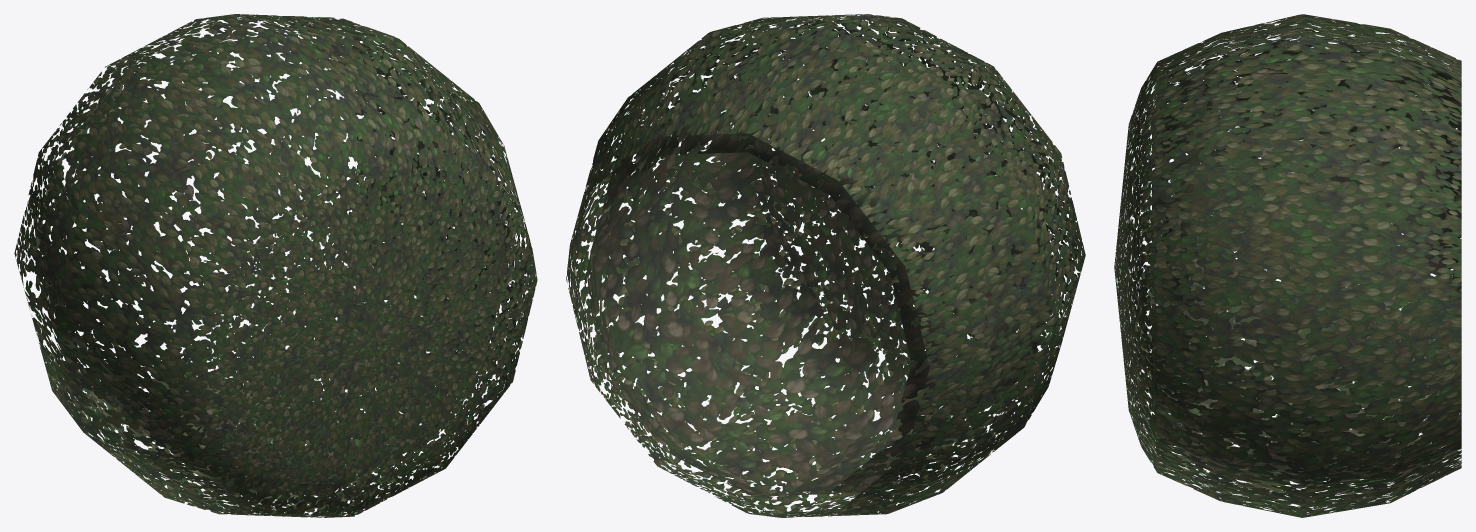
File: nt_2020_foliage_hedge_sphere_LOD1.obj
The picture shows the model from 3 angles, left to right: view 1: azimuth 30°, elevation 25°; view 2: azimuth 150°, elevation 25°; view 3: azimuth 270°, elevation 25°; orthographic projection. The views are drawn at different scales.
Parts seen in each view (by area): view 1: mtl_p6_foliage_hedge2, mtl_p6_foliage_hedge_no_alpha; view 2: mtl_p6_foliage_hedge2, mtl_p6_foliage_hedge_no_alpha; view 3: mtl_p6_foliage_hedge2, mtl_p6_foliage_hedge_no_alpha.
Boxes of the visible parts, bbox=[...] form: mtl_p6_foliage_hedge2: bbox=[14, 14, 537, 517]; mtl_p6_foliage_hedge_no_alpha: bbox=[33, 36, 510, 495]; mtl_p6_foliage_hedge2: bbox=[566, 14, 1085, 517]; mtl_p6_foliage_hedge_no_alpha: bbox=[584, 36, 1055, 495]; mtl_p6_foliage_hedge2: bbox=[1114, 14, 1461, 517]; mtl_p6_foliage_hedge_no_alpha: bbox=[1152, 52, 1461, 479].
Bounding box in the file's own units: 134 × 131 × 90.94.
